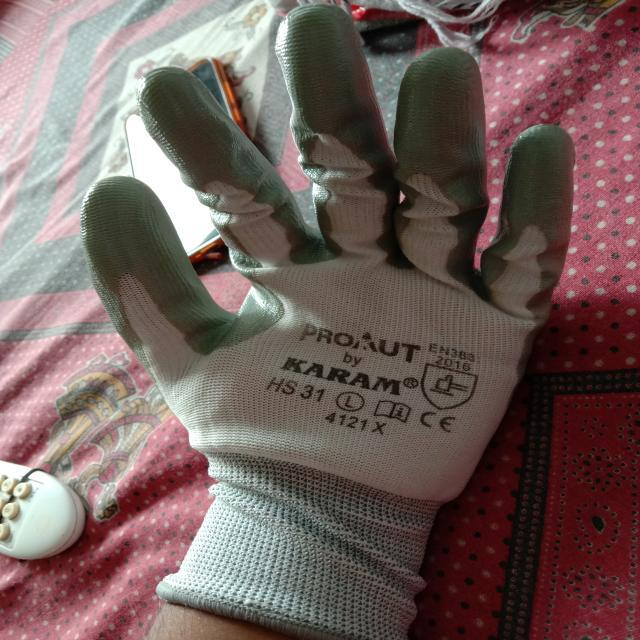glove_hand: (70, 0, 582, 638)
